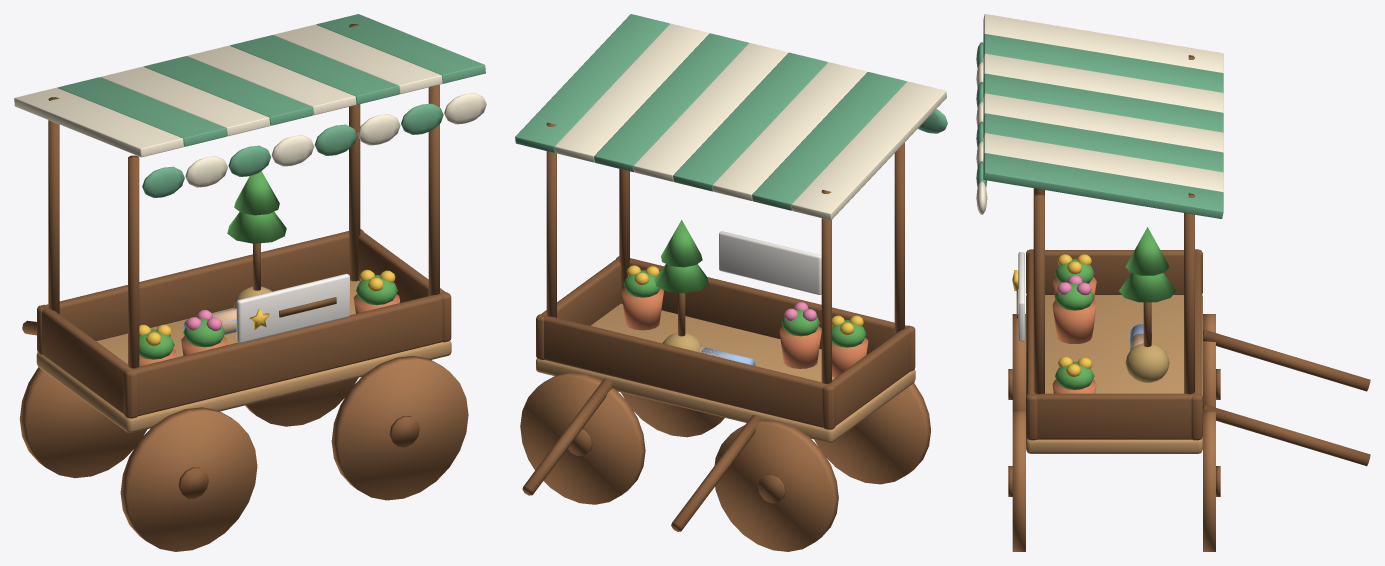
The model's file is peddler-cart.glb.
The picture shows the model from 3 angles, left to right: view 1: azimuth 30°, elevation 25°; view 2: azimuth 150°, elevation 25°; view 3: azimuth 270°, elevation 25°; orthographic projection. The views are drawn at different scales.
Visible parts, largest first — view 1: cart, awning, goods, sign; view 2: cart, awning, goods, sign; view 3: awning, cart, goods, sign.
Boxes of the visible parts, <box> form: cart: <box>19,24,468,551</box>; awning: <box>14,14,486,197</box>; goods: <box>139,171,399,366</box>; sign: <box>236,273,349,343</box>; cart: <box>520,122,930,551</box>; awning: <box>515,14,947,220</box>; goods: <box>621,220,868,377</box>; sign: <box>719,231,821,294</box>; awning: <box>976,14,1223,218</box>; cart: <box>1008,55,1370,551</box>; goods: <box>1052,227,1175,393</box>; sign: <box>1012,252,1024,341</box>.
Bounding box in the file's own units: 1.7 × 2.02 × 1.78.
